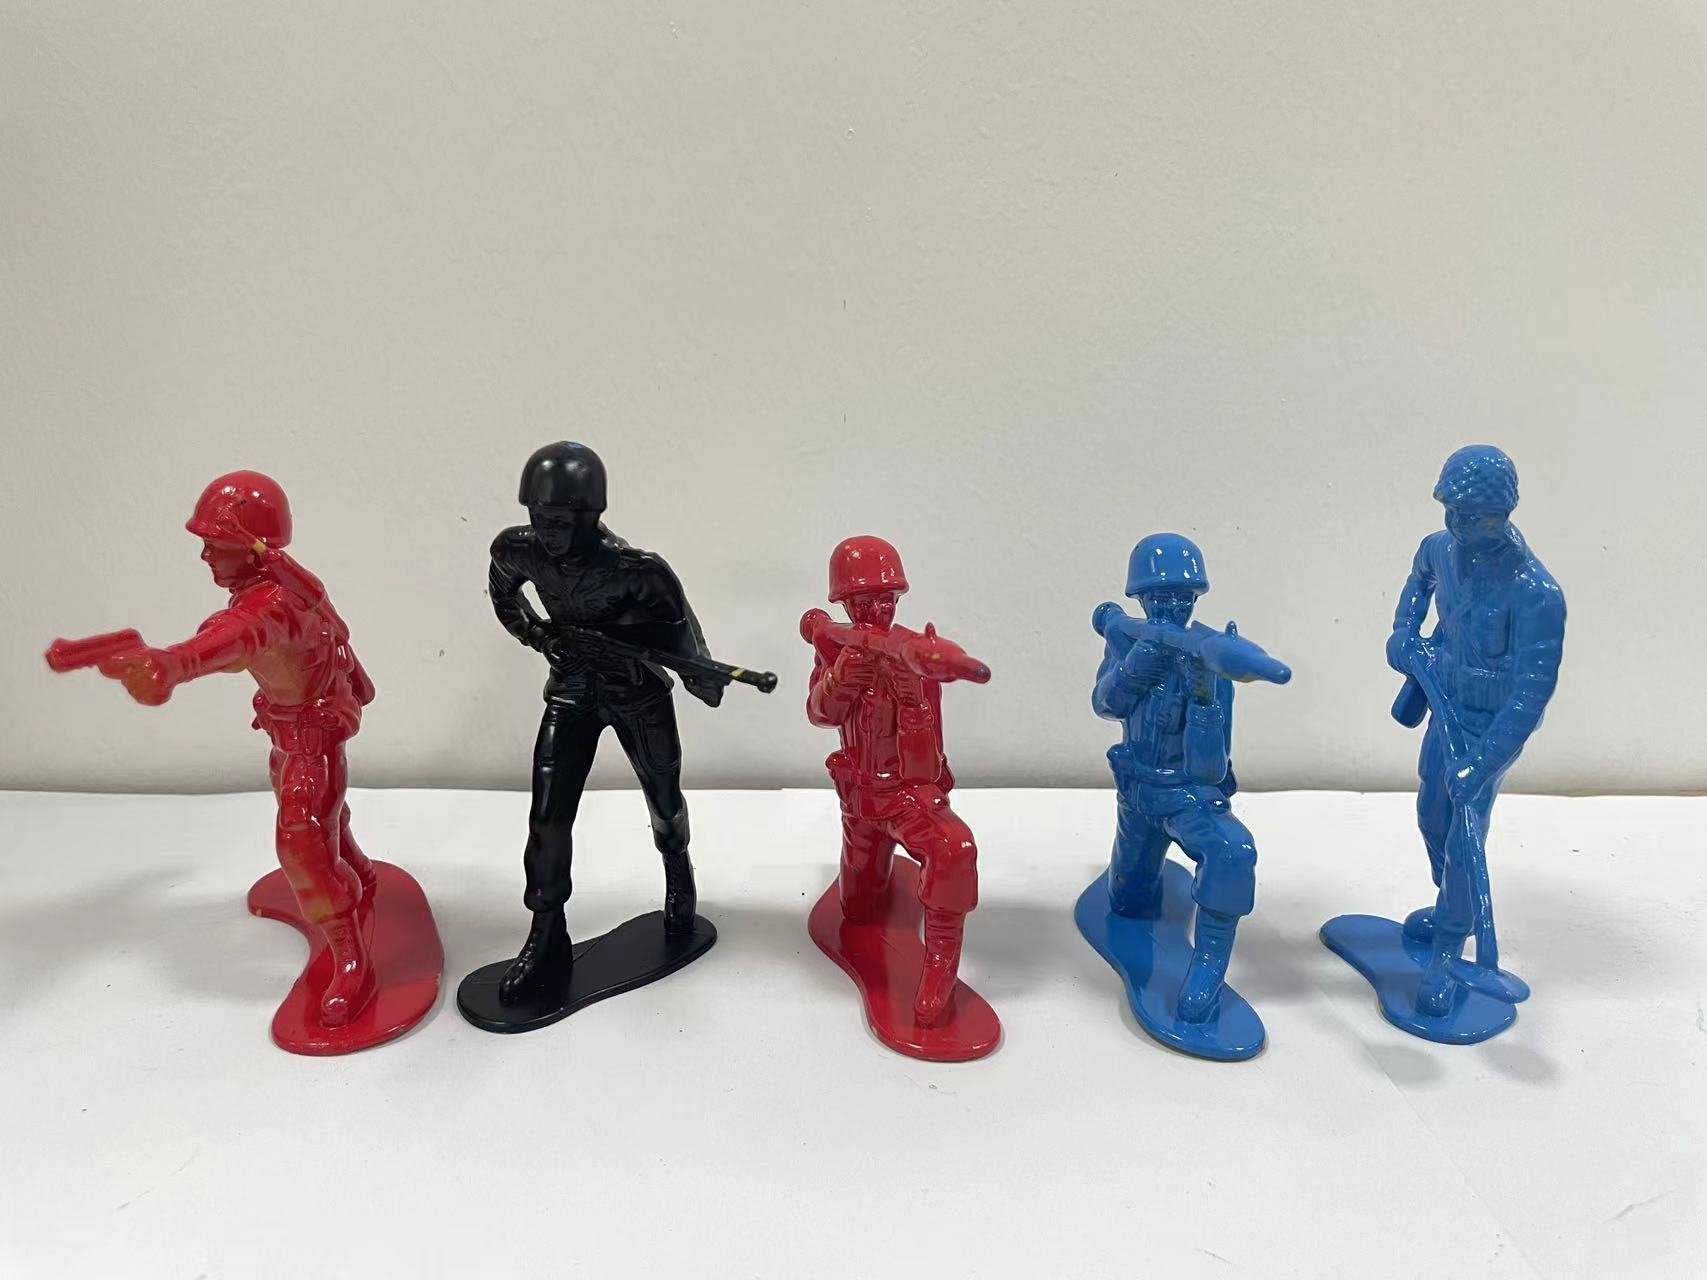black: (452, 421, 784, 1053)
blue: (1290, 409, 1624, 1077), (1052, 493, 1305, 1094)
red: (43, 433, 454, 1101), (778, 524, 1044, 1086)
